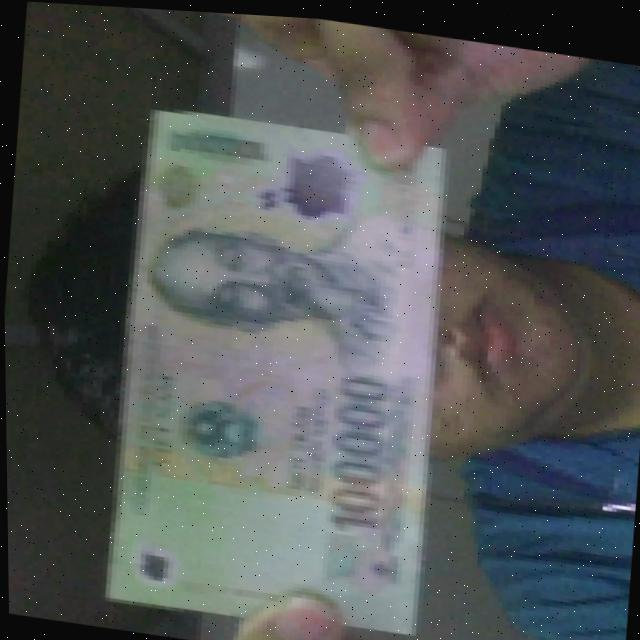100 000 VND: (91, 91, 464, 640)
